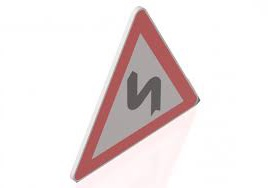Double_bend_left: (74, 4, 201, 182)
